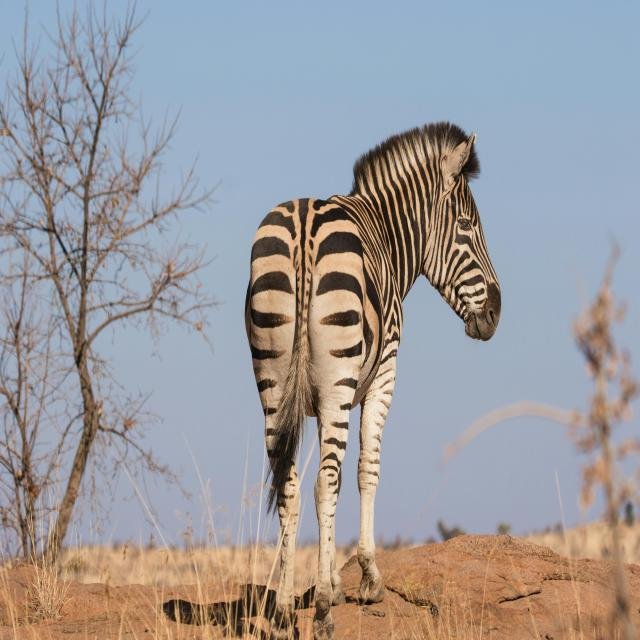Zebra: (244, 119, 502, 640)
